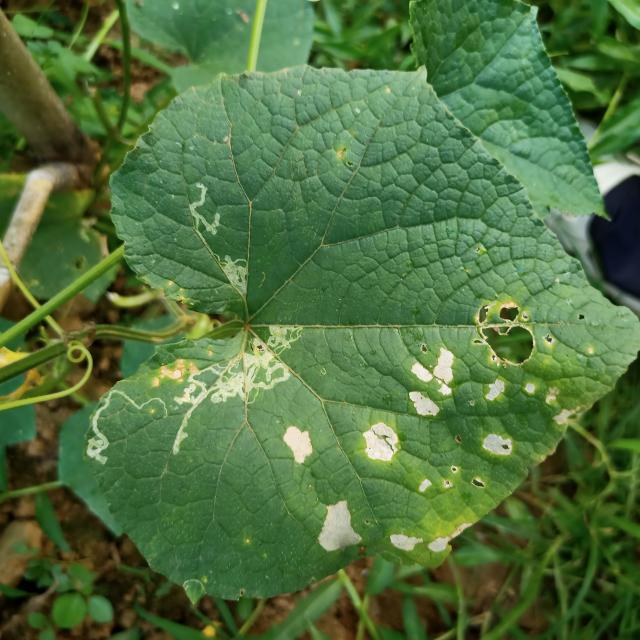disease_cucumber: (316, 296, 580, 562), (275, 422, 319, 468)
